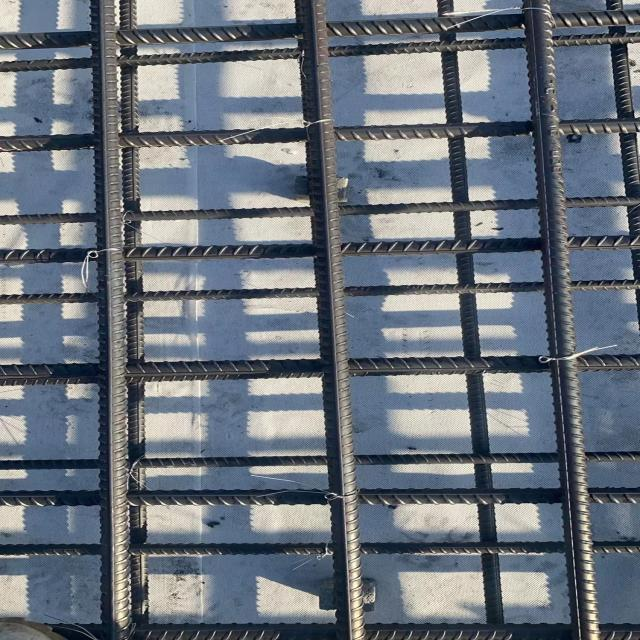ribbed bar: (521, 0, 600, 639), (300, 1, 369, 640), (437, 0, 507, 627), (91, 0, 134, 639), (0, 8, 639, 50), (0, 34, 639, 74), (0, 117, 639, 153), (0, 353, 639, 387), (0, 195, 639, 227), (121, 0, 152, 639), (0, 233, 639, 264), (0, 280, 639, 305), (0, 487, 639, 509), (0, 452, 639, 470), (605, 0, 639, 330), (57, 624, 639, 640), (0, 543, 639, 556)
